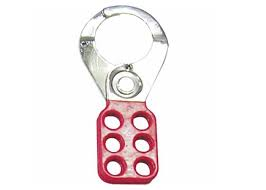hasp: (77, 4, 170, 190)
